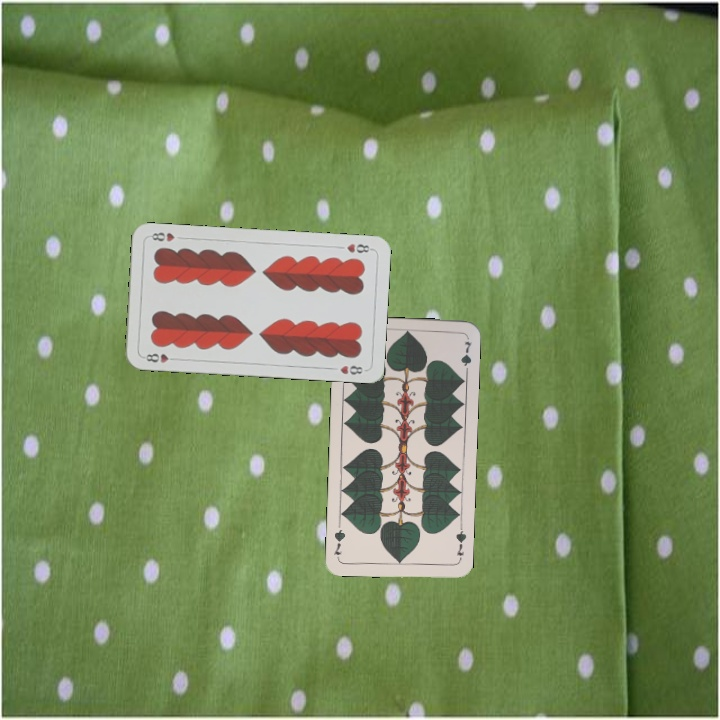G7: (452, 523, 469, 563)
H8: (139, 349, 180, 365), (343, 240, 375, 255)
